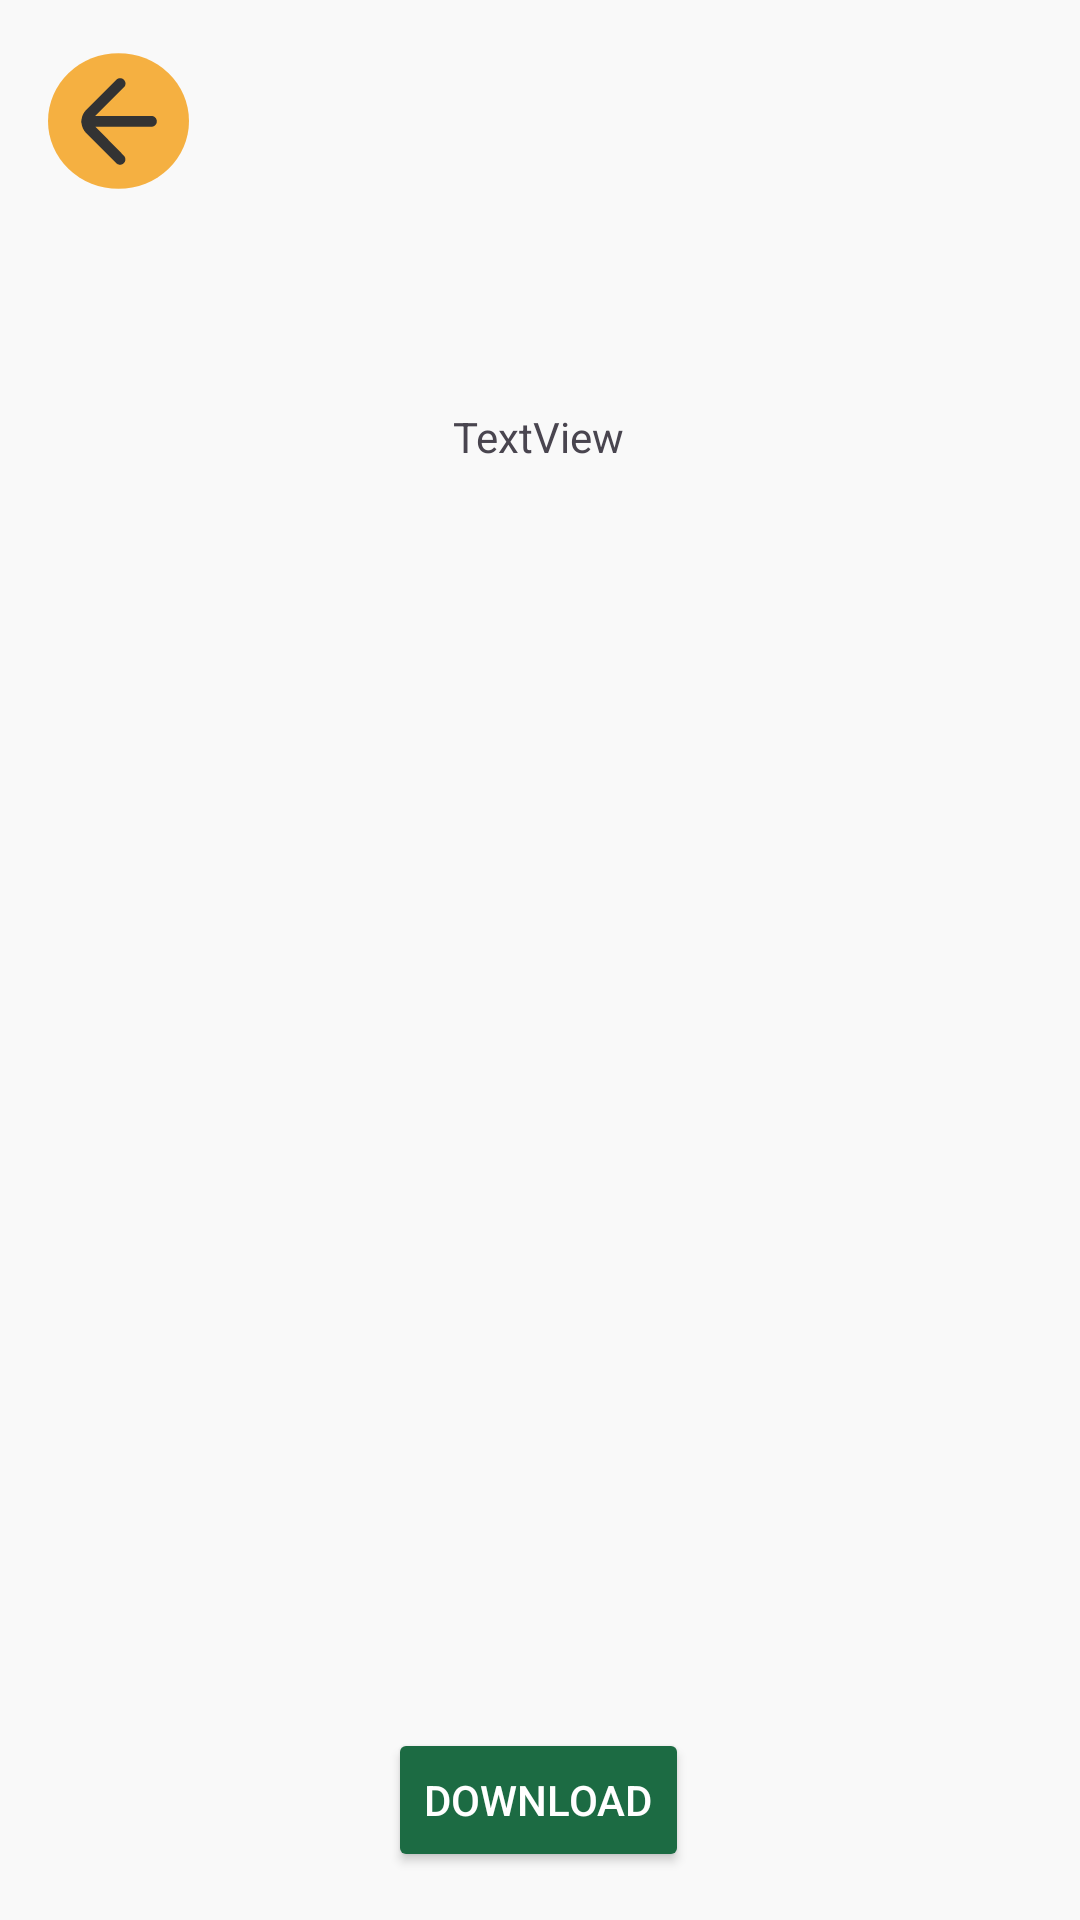

Icon click points for this 1080×1920 phone screenshot, format point (x, y):
back arrow: point (118, 121)
